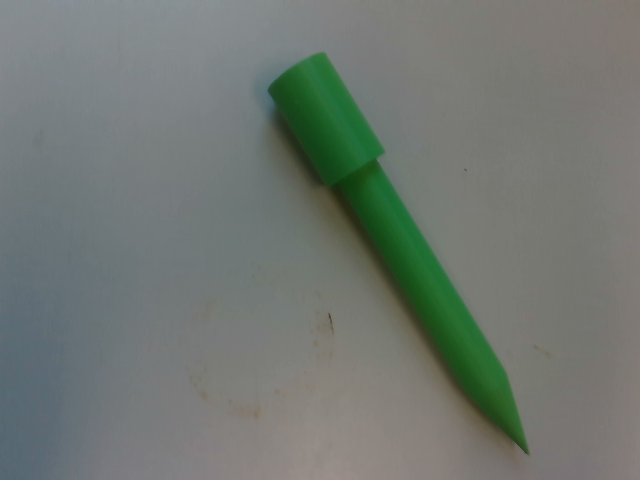Probe: (264, 38, 539, 465)
